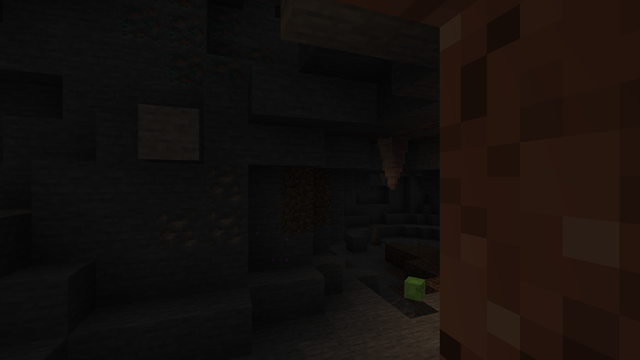slimes: (402, 275, 427, 300)
